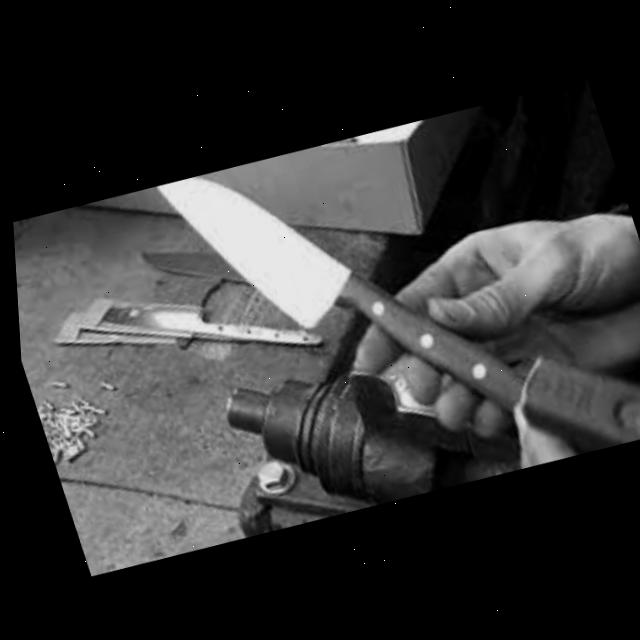knife: (151, 110, 534, 492)
